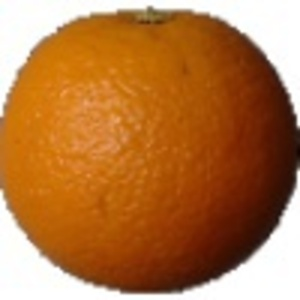laranja: (3, 5, 299, 296)
